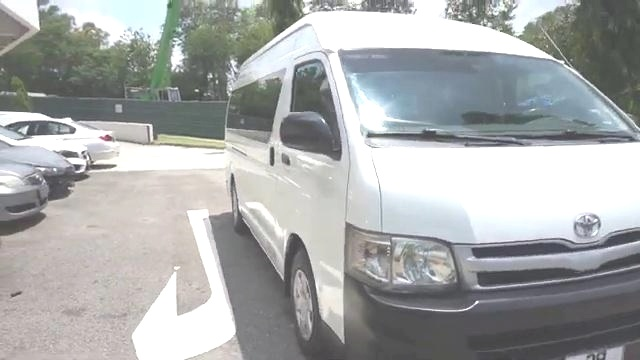van: (222, 13, 638, 352)
